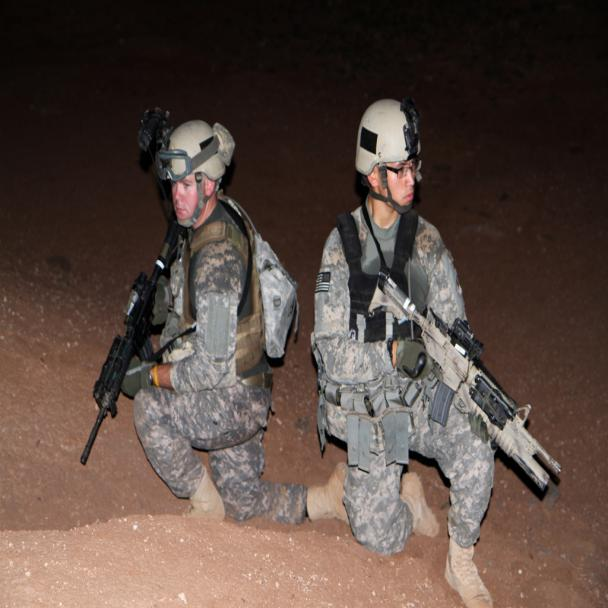Gun: (364, 266, 564, 496), (73, 213, 181, 475)
Hand: (119, 350, 178, 409), (386, 328, 440, 392)
